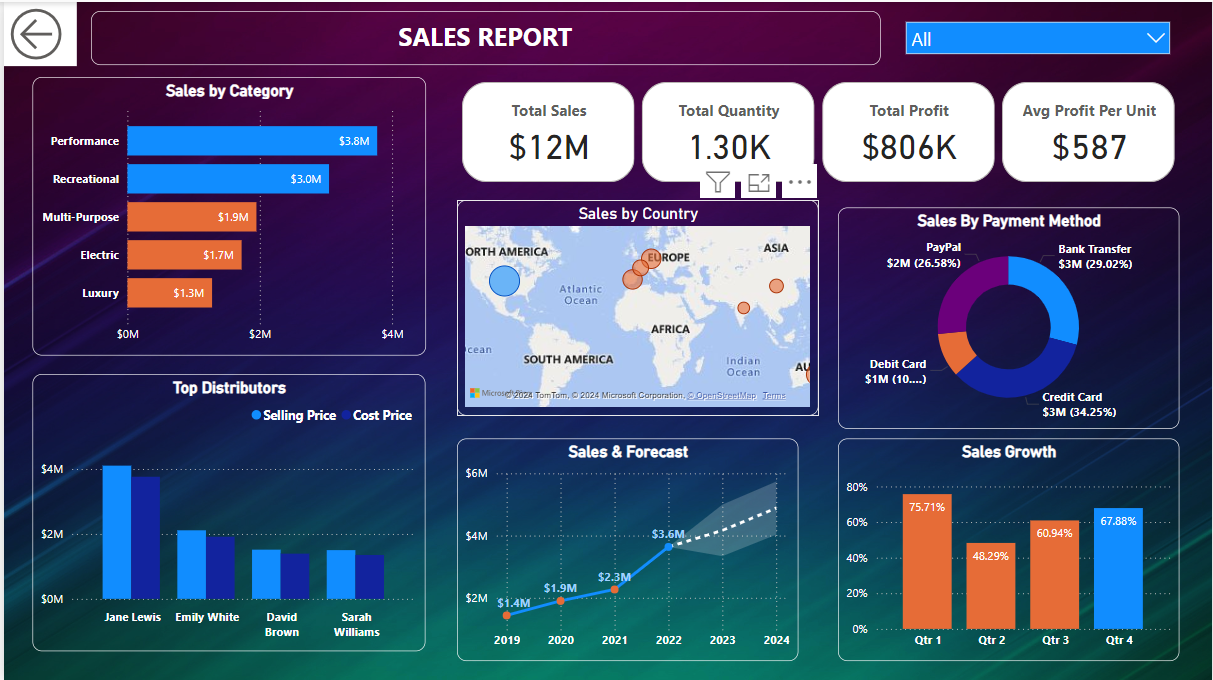

This screenshot's page, from the dashboard's own definition file:
{"tool":"powerbi","page":{"name":"Sales","canvas":[1280,720],"ordinal":0},"visuals":[{"type":"textbox","box":[92,10,837,57],"z":0},{"type":"cardVisual","fields":{"Data":["Sales.Sales($)","Sales.QuantitySold ","Sales.Profit","Sales.ProfitPerUnit"]},"box":[480,80.3,766.2,116.6],"z":1000},{"type":"barChart","title":"Sales by Category","fields":{"Y":["Sales.Sales($)"],"Category":["Category.Category Type"]},"box":[30.3,80.3,417,295],"z":2000},{"type":"clusteredColumnChart","title":"Top Distributors","fields":{"Y":["Sales.Sales($)","Sales.TotalProductionCostColumn"],"Category":["Distributor.FullName"]},"box":[30.3,395.2,416.4,293.8],"z":3000},{"type":"clusteredColumnChart","title":"Sales Growth","fields":{"Y":["Sales.Sales($) YoY% 2"],"Category":["Sales.Date       .Variation.Date Hierarchy.Year","Sales.Date       .Variation.Date Hierarchy.Quarter","Sales.Date       .Variation.Date Hierarchy.Month","Sales.Date       .Variation.Date Hierarchy.Day"]},"box":[884.3,463.3,361.9,236.2],"z":4000},{"type":"lineChart","title":"Sales & Forecast","fields":{"Category":["Sales.Date       .Variation.Date Hierarchy.Year","Sales.Date       .Variation.Date Hierarchy.Quarter","Sales.Date       .Variation.Date Hierarchy.Month","Sales.Date       .Variation.Date Hierarchy.Day"],"Y":["Sales.Sales($)"]},"box":[480,463.3,361.9,236.2],"z":5000},{"type":"map","title":"Sales by Country","fields":{"Category":["Distributor.Country"],"Size":["Sales.Sales($)"]},"box":[480,210.5,383.1,228.6],"z":6000},{"type":"donutChart","title":"Sales By Payment Method","fields":{"Y":["Sales.Sales($)"],"Series":["Sales.Payment_Methods. PaymentMethod "]},"box":[884.3,218,361.9,234.7],"z":7000},{"type":"slicer","fields":{"Values":["Sales.Date       .Variation.Date Hierarchy.Year"]},"box":[946.4,10.6,299.8,54.5],"z":8000},{"type":"actionButton","box":[0,0,77.2,68.1],"z":9000}]}

Visuals, with their boxes in screenshot pixels (x1, y1, x2, y2), scaled from the page's 1280x720 canvas onto the 1213x680 screenshot:
textbox: 87 9 880 63
cardVisual - Sales.Sales($) x Sales.QuantitySold : 455 76 1181 186
"Sales by Category" barChart: 29 76 424 354
"Top Distributors" clusteredColumnChart: 29 373 423 651
"Sales Growth" clusteredColumnChart: 838 438 1181 661
"Sales & Forecast" lineChart: 455 438 798 661
"Sales by Country" map: 455 199 818 415
"Sales By Payment Method" donutChart: 838 206 1181 428
slicer - Sales.Date       .Variation.Date Hierarchy.Year: 897 10 1181 61
actionButton: 0 0 73 64
